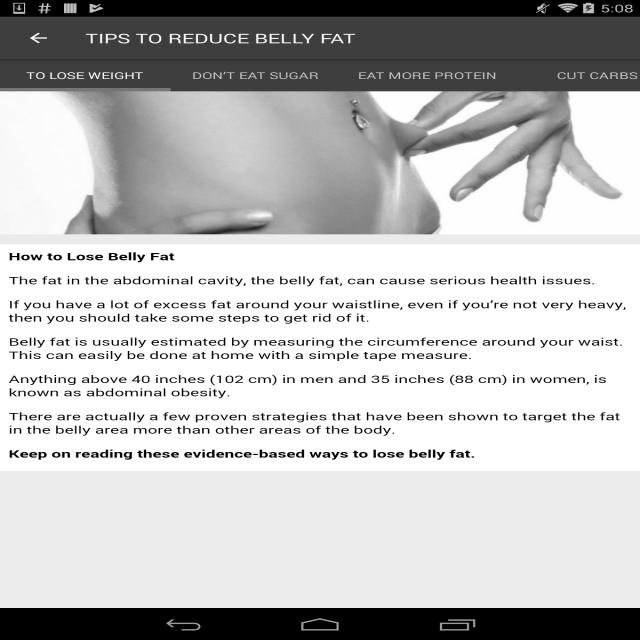ImageButton: (9, 17, 68, 59)
ImageView: (0, 92, 640, 235)
TextView: (85, 29, 356, 47), (357, 69, 496, 82), (192, 69, 319, 82), (26, 69, 144, 82), (557, 69, 638, 82)
